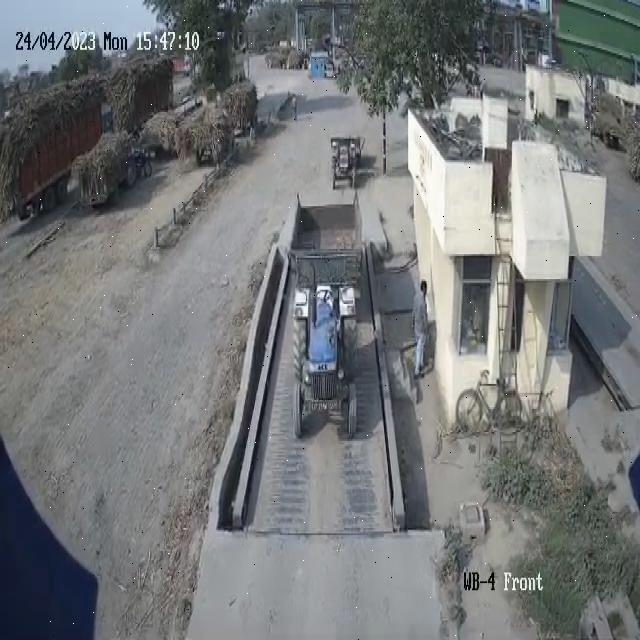Tratores - v5 YOLO V8L 2024-11-13: (278, 284, 362, 452), (322, 124, 364, 184)
